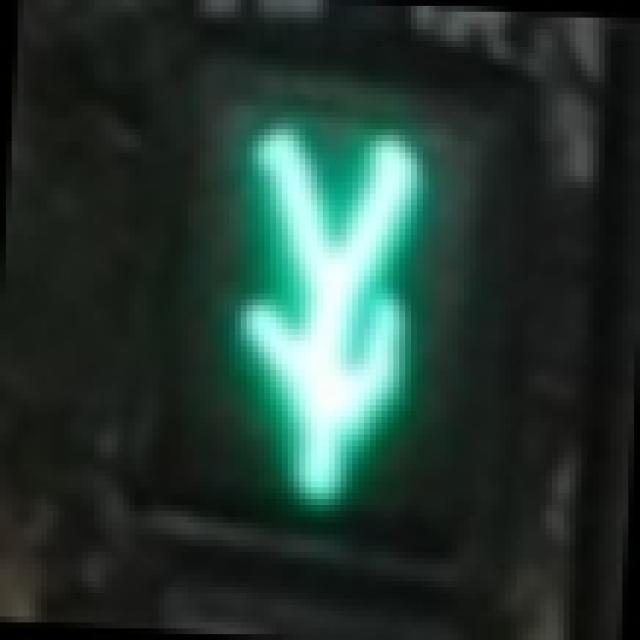green_light: (147, 88, 481, 534)
